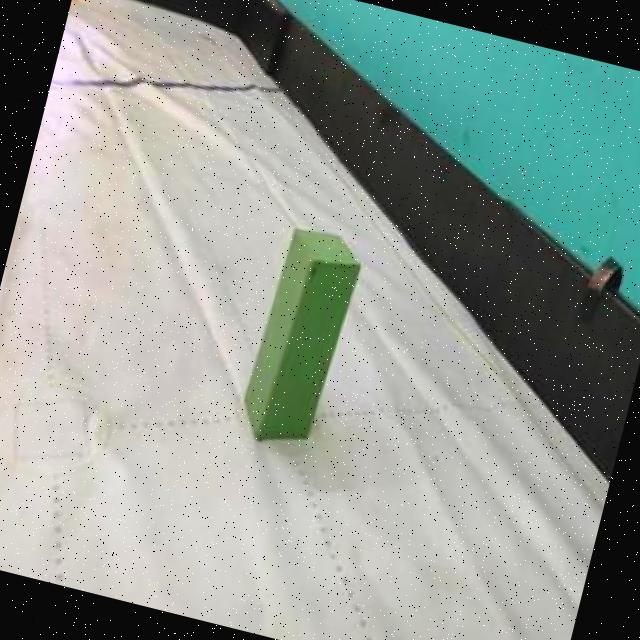greenbox: (232, 218, 371, 455)
